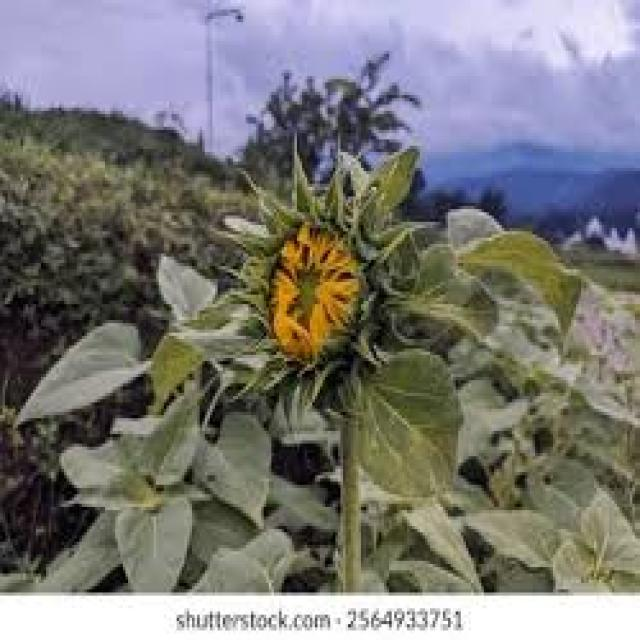Unbloomed: (264, 219, 364, 364)
